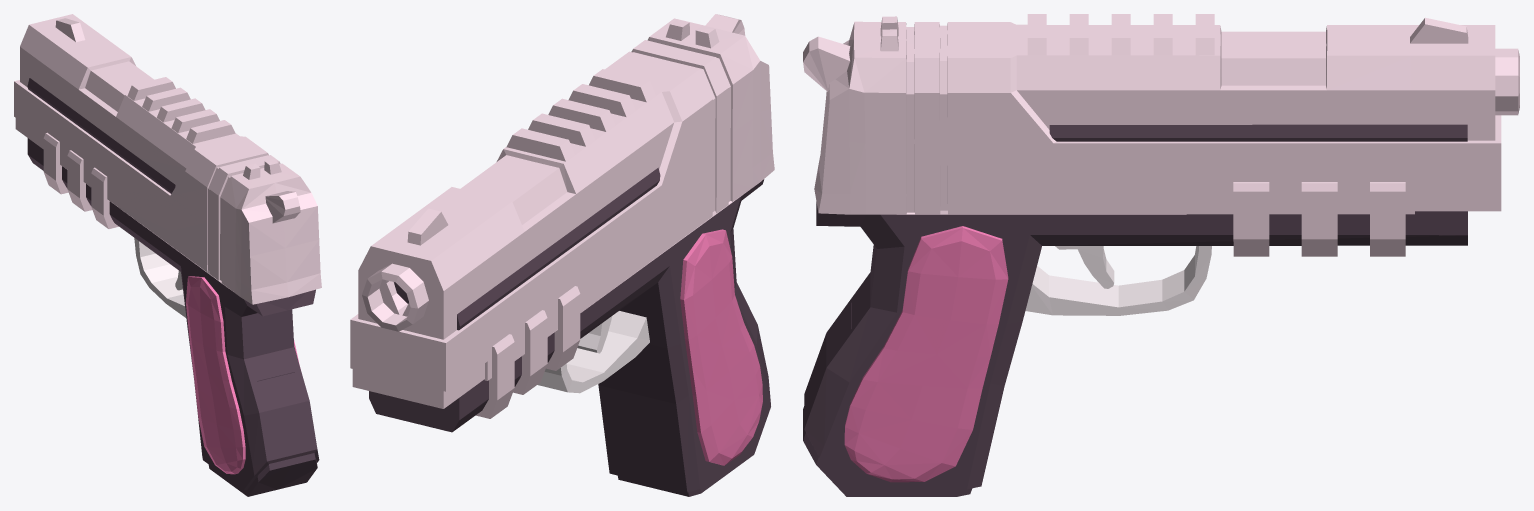
Rendered from Pistol_3.obj.
The picture shows the model from 3 angles, left to right: view 1: azimuth 30°, elevation 25°; view 2: azimuth 150°, elevation 25°; view 3: azimuth 270°, elevation 25°; orthographic projection. The views are drawn at different scales.
Visible parts, largest first — view 1: Slide, Hardware, Grip, Body, Mag; view 2: Slide, Hardware, Grip, Body, Mag; view 3: Slide, Hardware, Grip, Body, Mag.
Boxes of the visible parts, box(x1,y1,x2,y2) form: Slide: box(14, 14, 321, 304); Hardware: box(27, 78, 319, 483); Grip: box(185, 276, 299, 474); Body: box(134, 238, 186, 317); Mag: box(200, 372, 315, 496); Slide: box(350, 14, 774, 418); Hardware: box(369, 167, 770, 475); Grip: box(680, 229, 762, 465); Body: box(537, 311, 649, 393); Mag: box(607, 423, 764, 496); Slide: box(803, 14, 1519, 256); Hardware: box(803, 124, 1467, 470); Grip: box(844, 226, 1008, 482); Body: box(1025, 246, 1211, 315); Mag: box(820, 303, 985, 496).
Size of the model in its own units: 0.5702 by 2.24 by 3.2.
